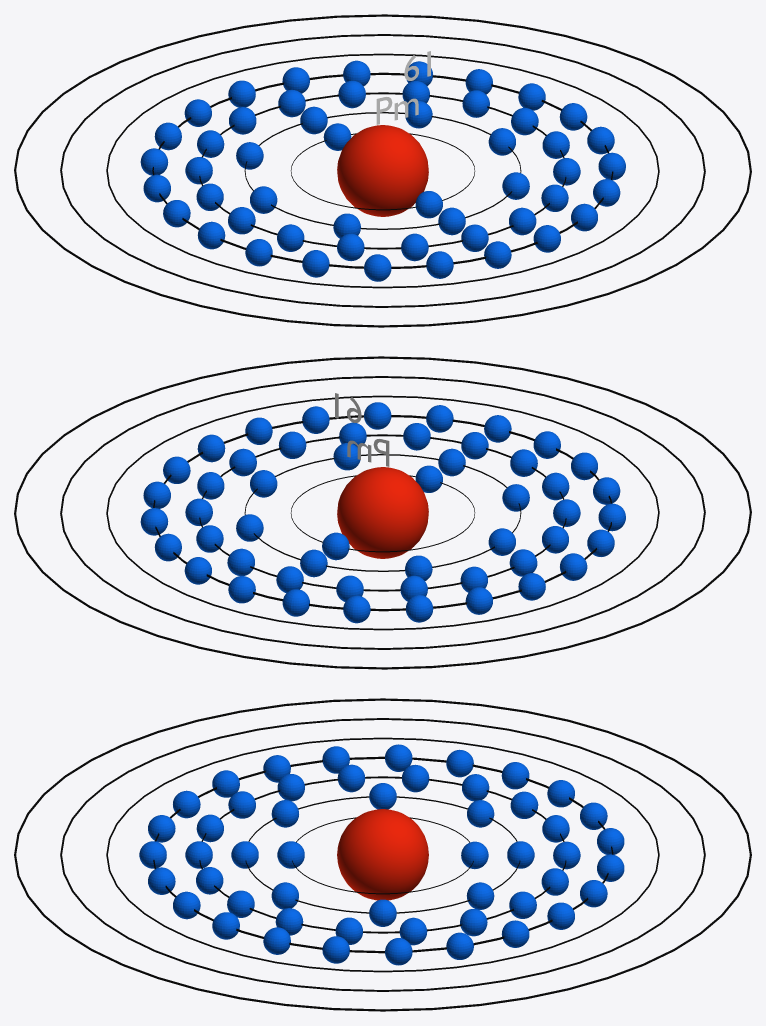
3 renders of one model, top to bottom at view 1: azimuth 30°, elevation 25°; view 2: azimuth 150°, elevation 25°; view 3: azimuth 270°, elevation 25°, orthographic.
Parts seen in each view (by area): view 1: Pm4, Pm3, Proton, n7, Pm2, n6, n5, n4, Pm1, n3, n2; view 2: Pm4, Pm3, Proton, n7, Pm2, n6, n5, n4, Pm1, n3, n2; view 3: Pm4, Pm3, Proton, Pm2, n7, n6, n5, n4, Pm1, n3, n2, n1.
Part boxes in pixels (bbox=[...]): Pm4: bbox=[140, 60, 625, 281]; Pm3: bbox=[185, 80, 580, 261]; Proton: bbox=[337, 125, 428, 216]; n7: bbox=[14, 14, 751, 327]; Pm2: bbox=[236, 101, 529, 238]; n6: bbox=[60, 34, 705, 307]; n5: bbox=[106, 53, 659, 288]; n4: bbox=[152, 72, 613, 268]; Pm1: bbox=[323, 123, 442, 218]; n3: bbox=[199, 92, 566, 249]; n2: bbox=[244, 112, 521, 229]; Pm4: bbox=[140, 402, 625, 623]; Pm3: bbox=[185, 422, 580, 601]; Proton: bbox=[337, 467, 428, 558]; n7: bbox=[14, 356, 751, 669]; Pm2: bbox=[236, 443, 529, 580]; n6: bbox=[60, 376, 705, 649]; n5: bbox=[106, 395, 659, 630]; n4: bbox=[153, 415, 611, 611]; Pm1: bbox=[322, 465, 442, 560]; n3: bbox=[199, 434, 566, 591]; n2: bbox=[244, 454, 521, 571]; Pm4: bbox=[139, 744, 624, 965]; Pm3: bbox=[185, 764, 580, 945]; Proton: bbox=[337, 809, 428, 900]; Pm2: bbox=[231, 783, 534, 926]; n7: bbox=[14, 698, 751, 1011]; n6: bbox=[60, 718, 705, 991]; n5: bbox=[106, 737, 659, 972]; n4: bbox=[153, 756, 613, 953]; Pm1: bbox=[277, 841, 488, 869]; n3: bbox=[199, 776, 566, 933]; n2: bbox=[245, 796, 520, 913]; n1: bbox=[292, 817, 473, 894].
Bounding box in the file's own units: 802 × 180 × 802.
